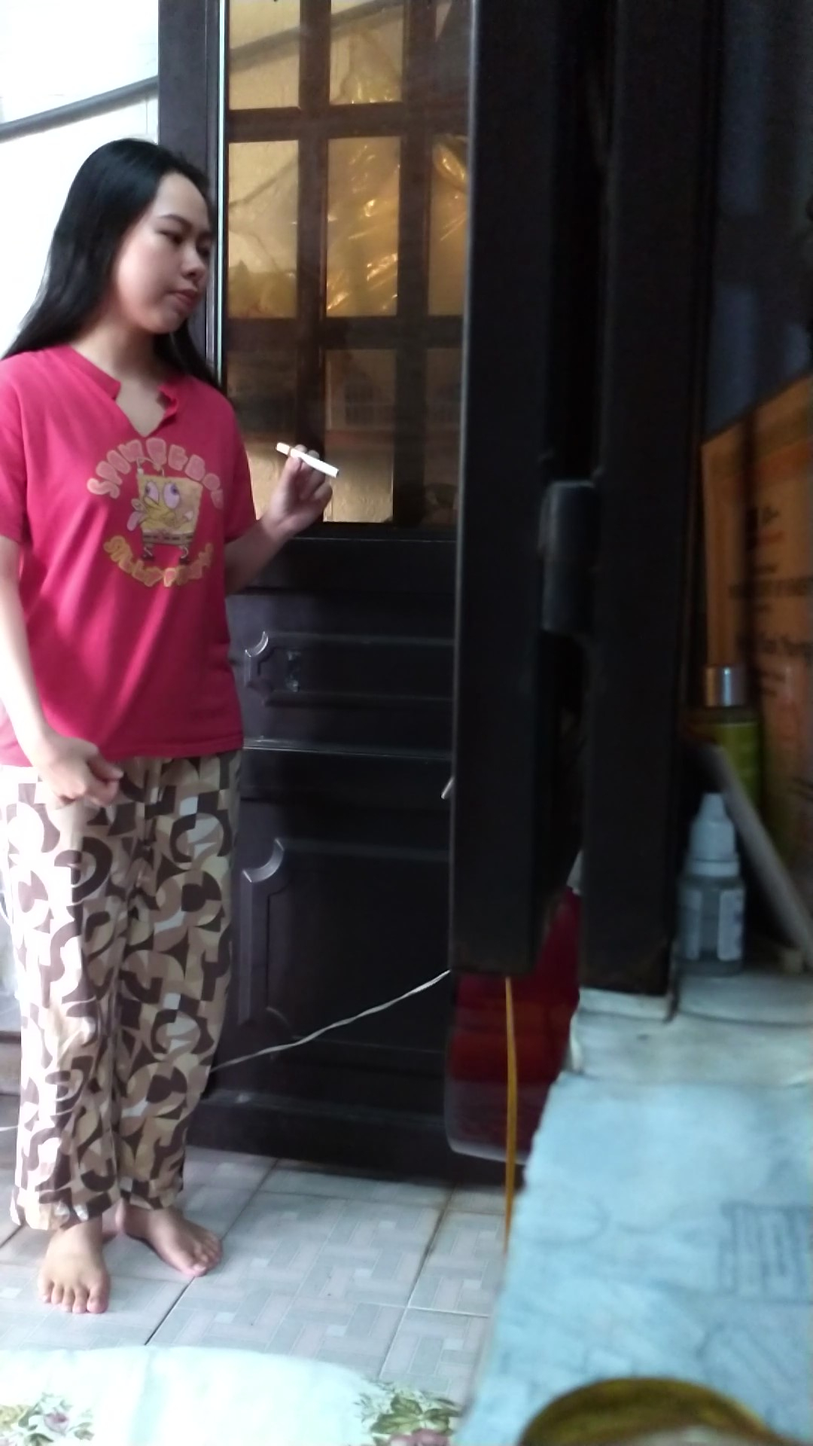cigarette: (272, 438, 344, 480)
person: (0, 119, 341, 1322)
